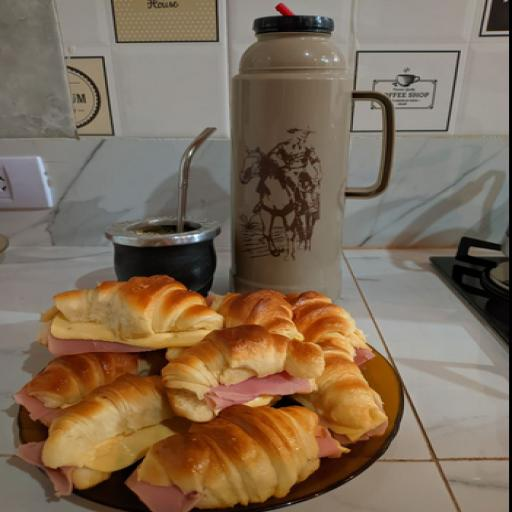bolleria: (126, 405, 350, 511), (18, 375, 189, 495), (162, 325, 325, 422), (285, 292, 388, 443), (38, 276, 223, 355), (14, 352, 148, 425)
mate: (106, 127, 221, 296)
termo: (232, 16, 395, 299)
